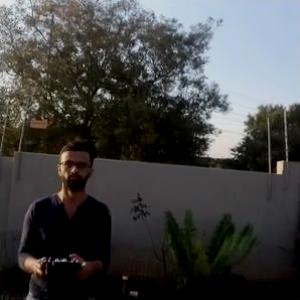follow: (9, 141, 112, 299)
